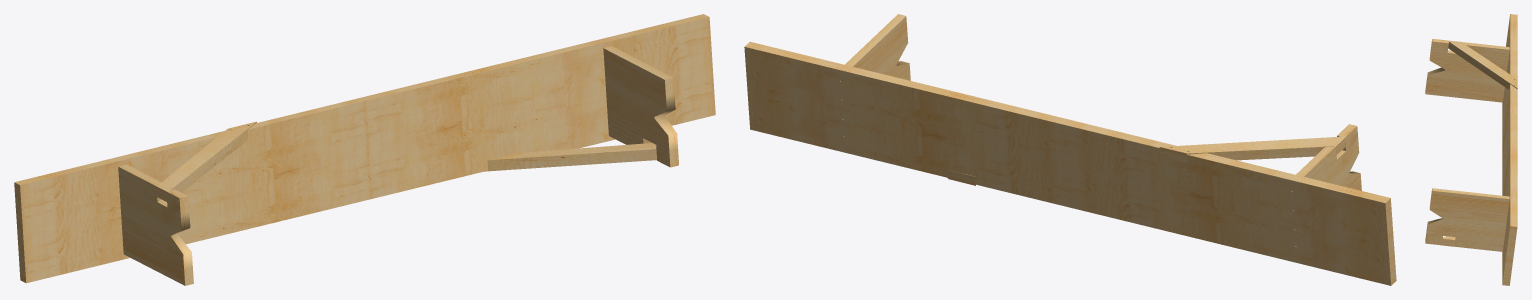
Rendered from bench-1769027865531.glb.
The picture shows the model from 3 angles, left to right: view 1: azimuth 30°, elevation 25°; view 2: azimuth 150°, elevation 25°; view 3: azimuth 270°, elevation 25°; orthographic projection. The views are drawn at different scales.
Visible parts, largest first — view 1: bench pCube1 transform1 transform4 pCube1_1, bench pCube1 transform1 transform4 pCube1, bench pCube2 transform2 transform5 pCube2, bench pCube2 transform2 transform5 pCube2_1, bench pCube3 transform3 transform6 pCube3_1, bench pCube3 transform3 transform6 pCube3; view 2: bench pCube1 transform1 transform4 pCube1, bench pCube1 transform1 transform4 pCube1_1, bench pCube3 transform3 transform6 pCube3, bench pCube2 transform2 transform5 pCube2_1, bench pCube2 transform2 transform5 pCube2; view 3: bench pCube2 transform2 transform5 pCube2_1, bench pCube2 transform2 transform5 pCube2, bench pCube1 transform1 transform4 pCube1_1, bench pCube1 transform1 transform4 pCube1, bench pCube3 transform3 transform6 pCube3, bench pCube3 transform3 transform6 pCube3_1.
Boxes of the visible parts, left/top/right/bottom form: bench pCube1 transform1 transform4 pCube1_1: left=359, top=14, right=715, bottom=198; bench pCube1 transform1 transform4 pCube1: left=14, top=98, right=370, bottom=283; bench pCube2 transform2 transform5 pCube2: left=118, top=164, right=193, bottom=285; bench pCube2 transform2 transform5 pCube2_1: left=603, top=46, right=678, bottom=167; bench pCube3 transform3 transform6 pCube3_1: left=485, top=143, right=656, bottom=171; bench pCube3 transform3 transform6 pCube3: left=156, top=121, right=256, bottom=201; bench pCube1 transform1 transform4 pCube1: left=1065, top=120, right=1396, bottom=285; bench pCube1 transform1 transform4 pCube1_1: left=744, top=41, right=1070, bottom=207; bench pCube3 transform3 transform6 pCube3: left=1159, top=136, right=1345, bottom=162; bench pCube2 transform2 transform5 pCube2_1: left=845, top=14, right=910, bottom=80; bench pCube2 transform2 transform5 pCube2: left=1296, top=124, right=1361, bottom=190; bench pCube2 transform2 transform5 pCube2_1: left=1425, top=188, right=1509, bottom=251; bench pCube2 transform2 transform5 pCube2: left=1425, top=39, right=1509, bottom=102; bench pCube1 transform1 transform4 pCube1_1: left=1502, top=120, right=1517, bottom=285; bench pCube1 transform1 transform4 pCube1: left=1502, top=14, right=1517, bottom=177; bench pCube3 transform3 transform6 pCube3: left=1447, top=40, right=1517, bottom=89; bench pCube3 transform3 transform6 pCube3_1: left=1442, top=236, right=1455, bottom=246.
Size of the model in its own units: 19.51 by 2.83 by 3.59.
Materials: 1 (1 with a texture image).
